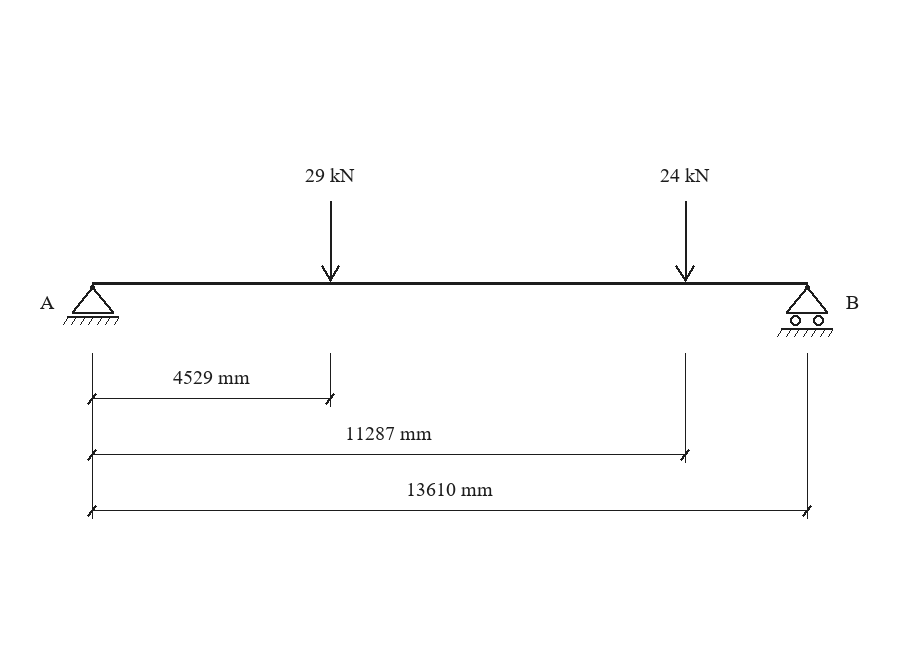pin_support: (63, 285, 119, 325)
point_load: (675, 201, 695, 282), (321, 201, 340, 282)
roller_support: (777, 285, 833, 337)
